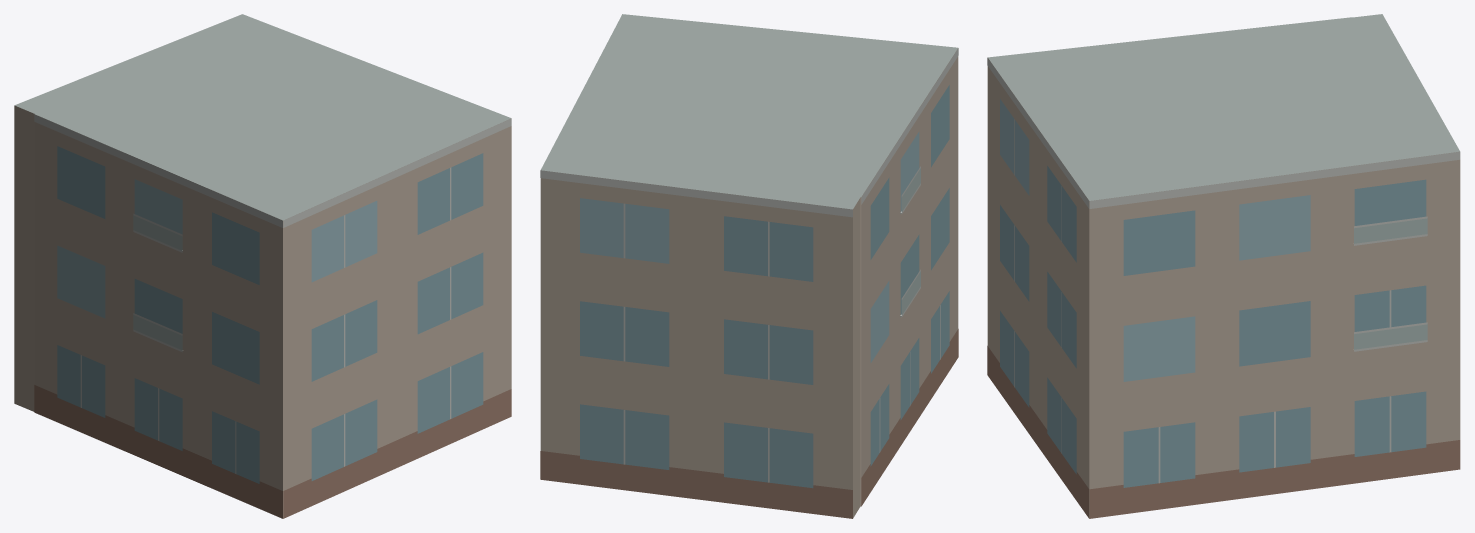
Rendered from survey-upis-32922836.glb.
3 renders of one model, left to right at view 1: azimuth 30°, elevation 25°; view 2: azimuth 150°, elevation 25°; view 3: azimuth 270°, elevation 25°, orthographic. The views are drawn at different scales.
Parts seen in each view (by area): view 1: survey-upis-32922836.tmp; view 2: survey-upis-32922836.tmp; view 3: survey-upis-32922836.tmp.
Boxes of the visible parts, x1,y1,x2,y2 form: survey-upis-32922836.tmp: [14, 14, 511, 518]; survey-upis-32922836.tmp: [540, 14, 958, 518]; survey-upis-32922836.tmp: [987, 14, 1460, 518].
Bounding box in the file's own units: 12.07 × 9.56 × 12.9.
